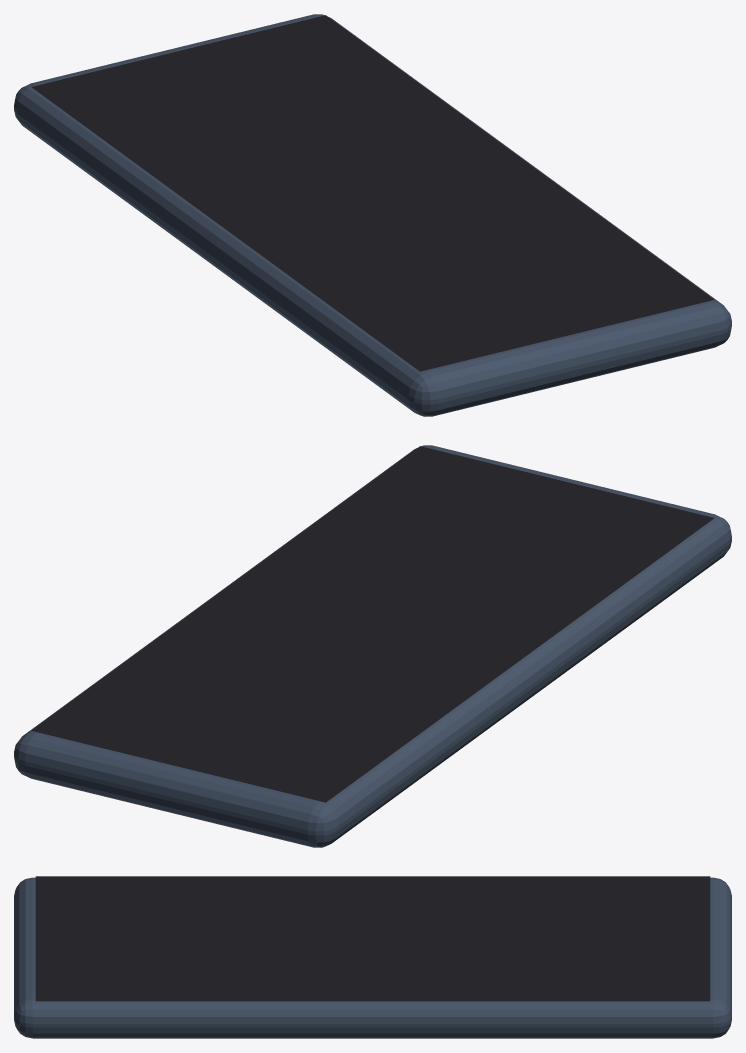
The model's file is Phone_617.glb.
3 views of the same model, one above another, from view 1: azimuth 30°, elevation 25°; view 2: azimuth 150°, elevation 25°; view 3: azimuth 270°, elevation 25° (orthographic). The views are drawn at different scales.
Parts seen in each view (by area): view 1: Phone_Screen, Phone_Body; view 2: Phone_Screen, Phone_Body; view 3: Phone_Screen, Phone_Body.
Part boxes in pixels (x1,y1,x2,y2): Phone_Screen: (31,15,714,371); Phone_Body: (14,14,731,416); Phone_Screen: (31,446,714,802); Phone_Body: (14,445,731,847); Phone_Screen: (35,876,710,1001); Phone_Body: (14,877,731,1038).
Bounding box in the file's own units: 0.0743 × 0.0097 × 0.1662.
